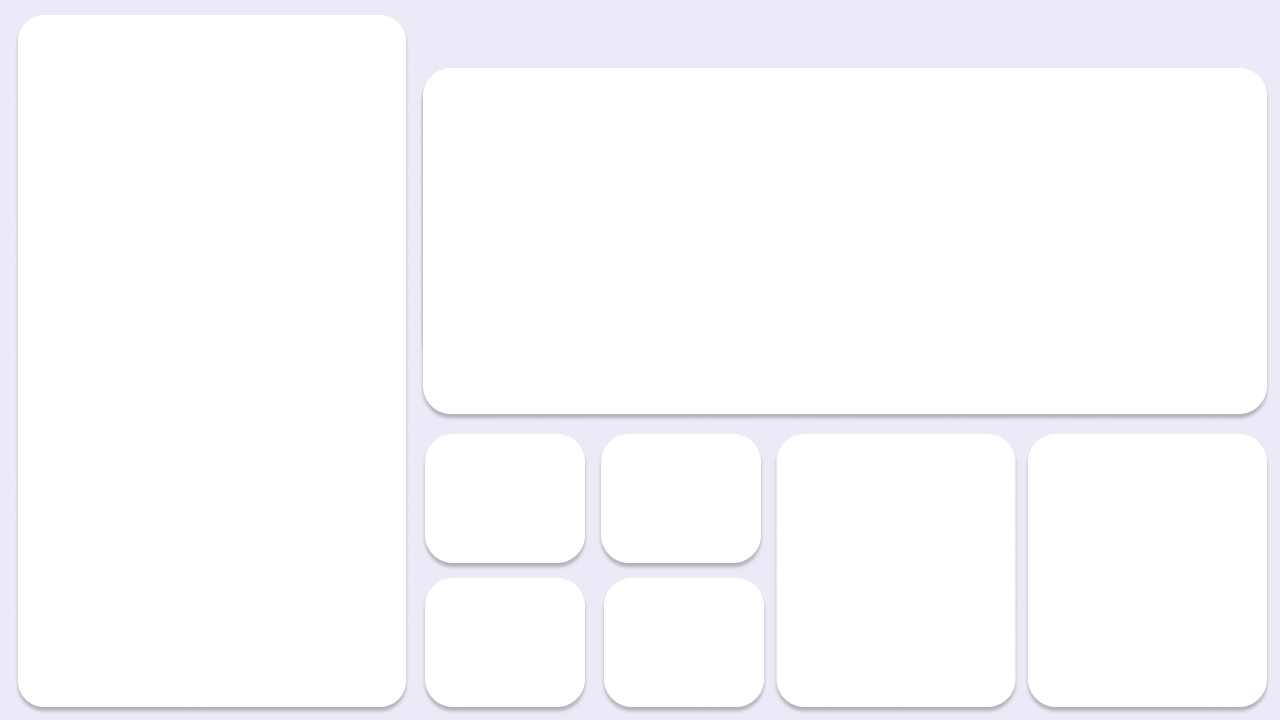

What the dashboard file says about the page in this screenshot:
{"tool":"powerbi","page":{"name":"Homepage","canvas":[1000,700],"ordinal":0},"visuals":[{"type":"pageNavigator","box":[38,194.5,234,444.4],"z":1}]}

Visuals, with their boxes on the page's 1000x700 design canvas (x1, y1, x2, y2). These are canvas units, not pixel positions in the 1280x720 screenshot, which may show the page scaled, cropped or inside an application window:
pageNavigator: l=38, t=194, r=272, b=639
